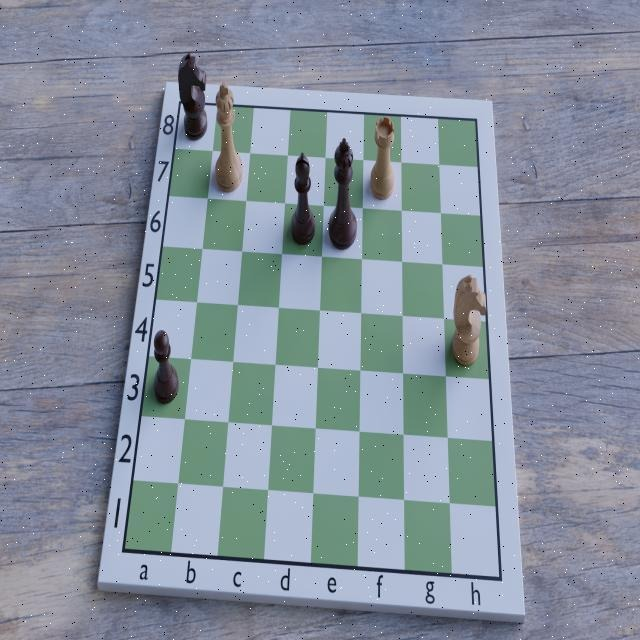black-bishop: (288, 149, 318, 247)
black-king: (324, 137, 359, 251)
black-knight: (177, 49, 210, 142)
black-pawn: (152, 328, 180, 408)
white-king: (211, 80, 247, 196)
white-knight: (448, 271, 490, 373)
white-rook: (369, 114, 399, 202)
